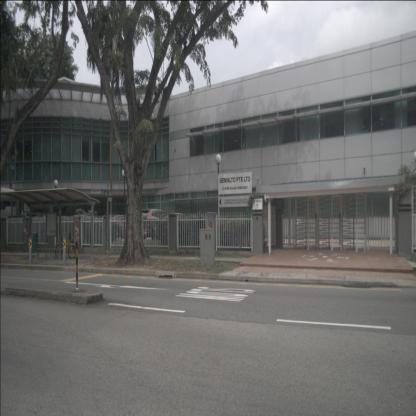barrier: (75, 231, 79, 293)
